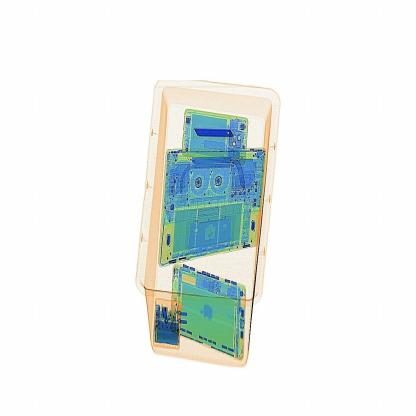pliers: (190, 118, 241, 154)
